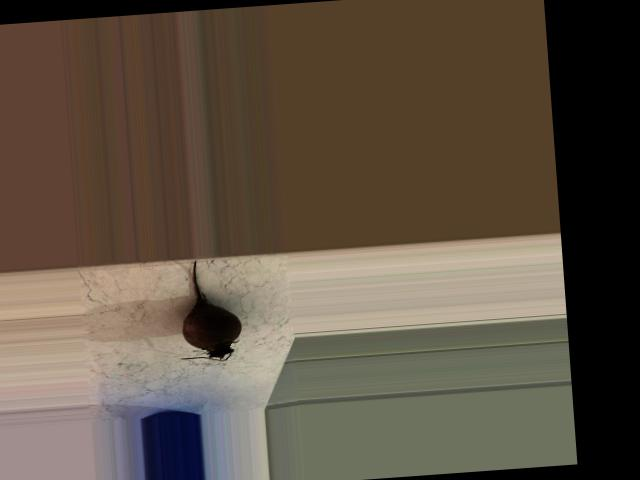beet: (172, 257, 242, 364)
